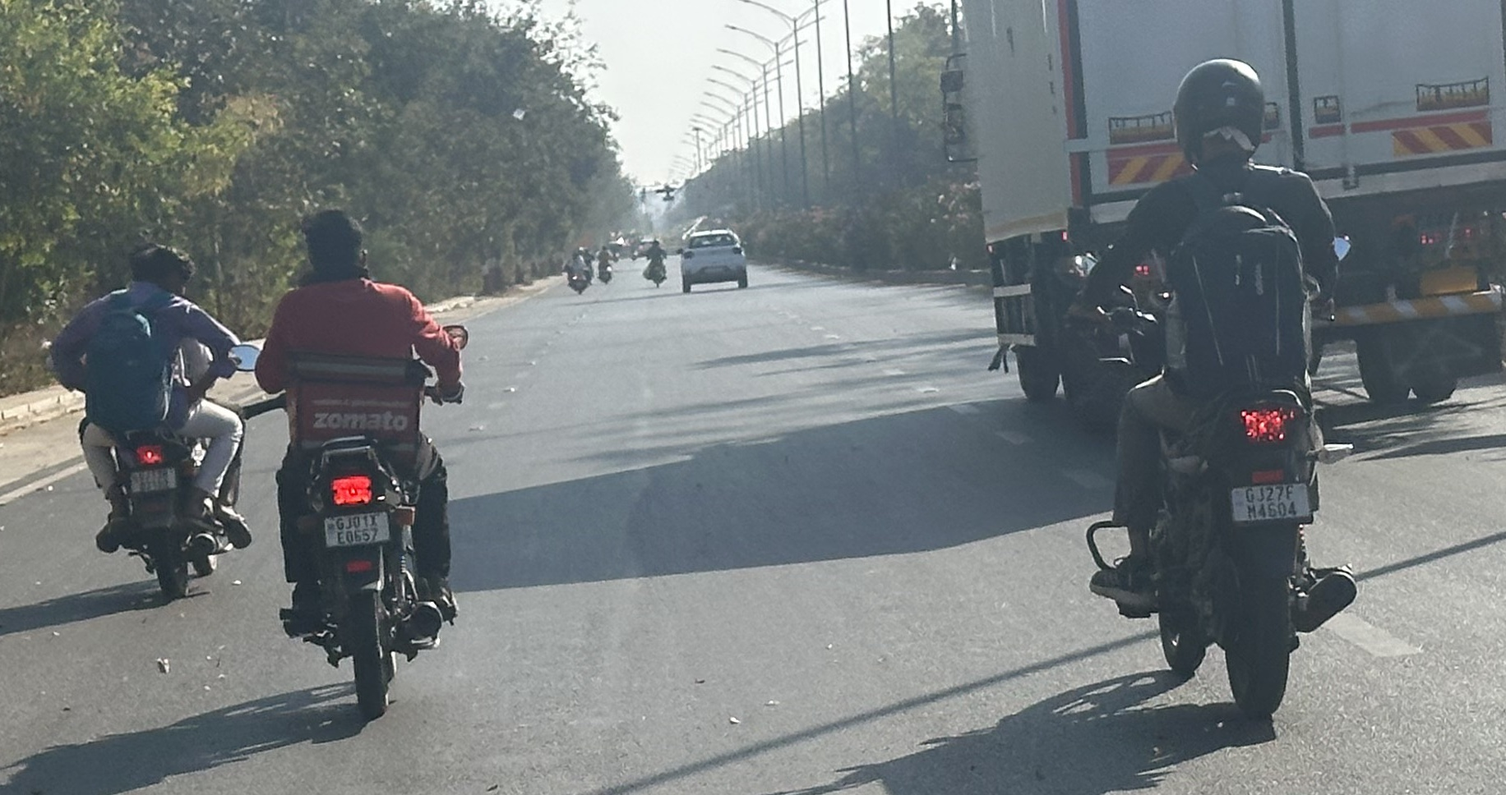BikeWithRider: (1055, 44, 1365, 736), (242, 202, 480, 720), (39, 237, 256, 613), (562, 244, 593, 295), (641, 238, 671, 289), (594, 243, 618, 287)
Helmet: (1159, 47, 1285, 182)
NoHelmet: (291, 207, 380, 292), (120, 240, 198, 313)
